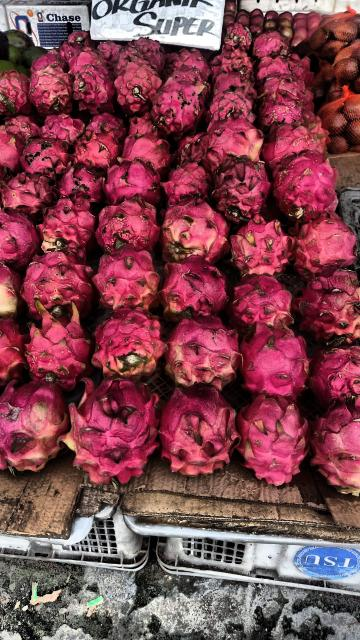buah-naga-belum-matang: (0, 380, 60, 470), (163, 318, 241, 386), (92, 306, 160, 380), (158, 203, 229, 261), (206, 117, 262, 163), (28, 72, 74, 112), (0, 260, 20, 316)
buah-naga-matang: (66, 374, 158, 476), (157, 384, 241, 474), (238, 391, 306, 479), (222, 210, 294, 278), (22, 314, 90, 384), (241, 326, 307, 398), (268, 154, 340, 218), (22, 256, 100, 314), (312, 400, 360, 492), (294, 274, 360, 340), (158, 258, 230, 314), (291, 218, 355, 272), (207, 160, 268, 214), (36, 202, 96, 255), (312, 338, 360, 404), (104, 154, 162, 208), (94, 256, 158, 304), (94, 204, 162, 248), (231, 273, 288, 325), (264, 122, 328, 164), (156, 80, 204, 136), (0, 171, 58, 213), (162, 158, 214, 202), (22, 134, 72, 178), (114, 70, 164, 114), (258, 90, 312, 128), (54, 164, 102, 204), (254, 51, 312, 84), (1, 214, 42, 260), (72, 66, 112, 112), (74, 130, 121, 168), (206, 88, 253, 124), (126, 130, 166, 166), (0, 70, 30, 116), (41, 111, 82, 139), (1, 116, 43, 140), (83, 112, 125, 136)
